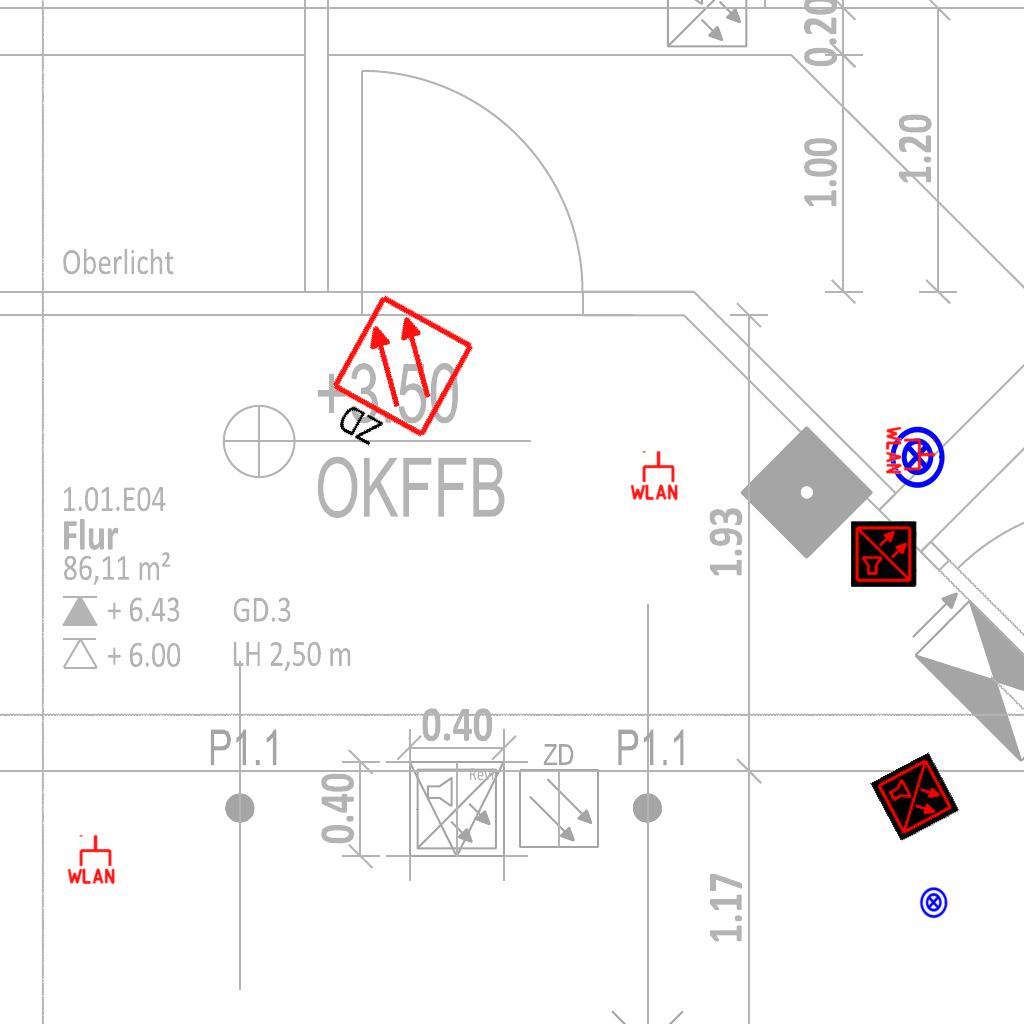OKW_Multisensormelder_(Kombination_optischer_Rauch-Kahlenmonoxid_Waerme-Melder): (870, 752, 960, 842), (851, 521, 917, 587)
Taster_beleuchtet: (884, 424, 950, 490), (917, 886, 950, 919)
WLAN: (628, 449, 680, 501), (65, 833, 117, 885), (885, 424, 937, 476)
ZD_Melder_in_Zwischendecke_mit_Revisionsoeffnung_mind_40_x_40_cm: (309, 290, 481, 477)
